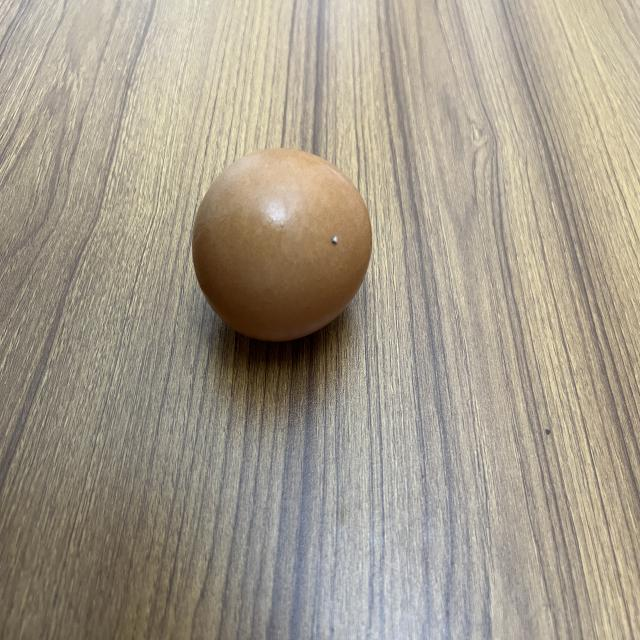Egg: (191, 146, 380, 345)
